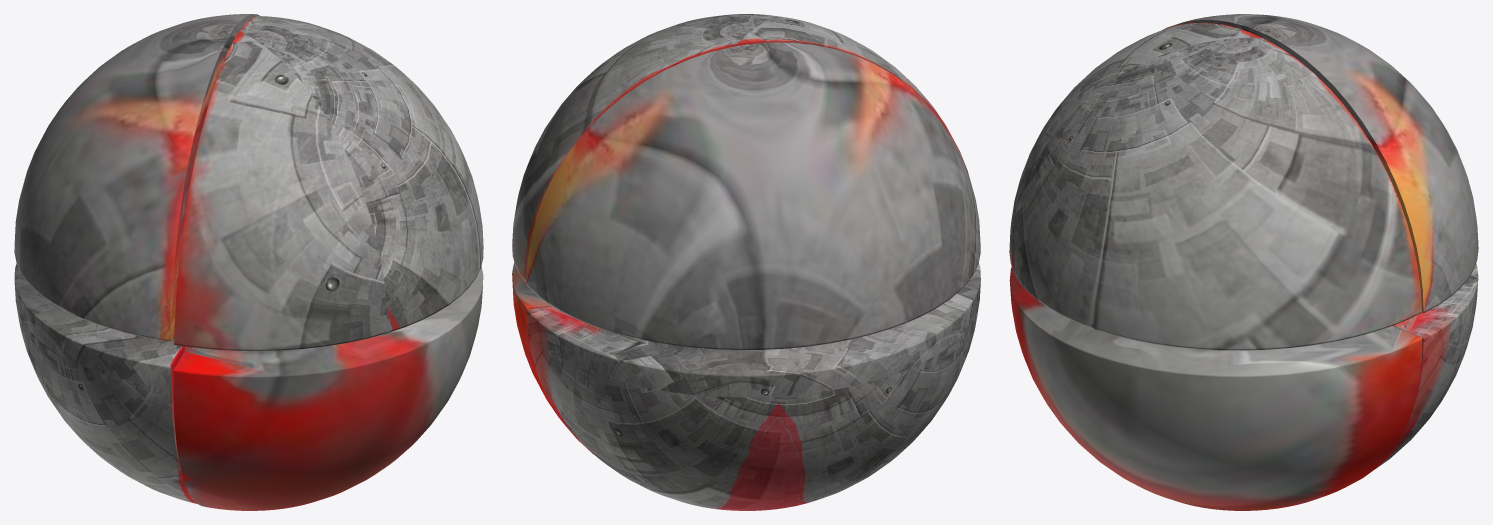
Rendered from Drone166_000001.obj.
3 renders of one model, left to right at view 1: azimuth 30°, elevation 25°; view 2: azimuth 150°, elevation 25°; view 3: azimuth 270°, elevation 25°, orthographic.
Parts seen in each view (by area): view 1: Sphere.001_Sphere.005, Sphere.000_Sphere.004; view 2: Sphere.000_Sphere.004, Sphere.001_Sphere.005; view 3: Sphere.001_Sphere.005, Sphere.000_Sphere.004.
Part boxes in pixels (x1,y1,x2,y2): Sphere.001_Sphere.005: (173, 16, 483, 510); Sphere.000_Sphere.004: (14, 14, 259, 503); Sphere.000_Sphere.004: (526, 42, 980, 510); Sphere.001_Sphere.005: (512, 14, 948, 455); Sphere.001_Sphere.005: (1009, 22, 1422, 510); Sphere.000_Sphere.004: (1162, 14, 1478, 468).
Bounding box in the file's own units: 2.01 × 2.14 × 2.01.
Materials: 4 (4 with a texture image).
